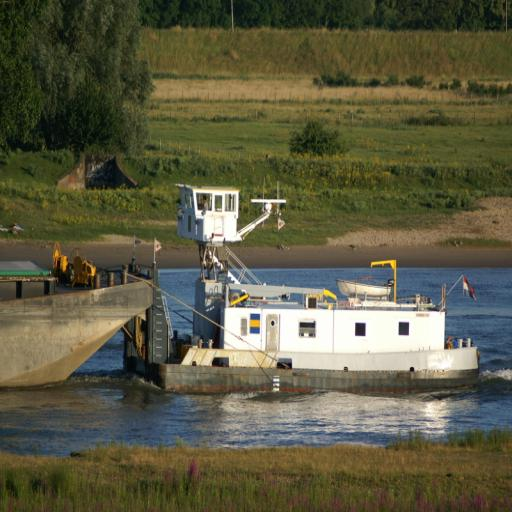tugboat: (122, 180, 486, 404)
